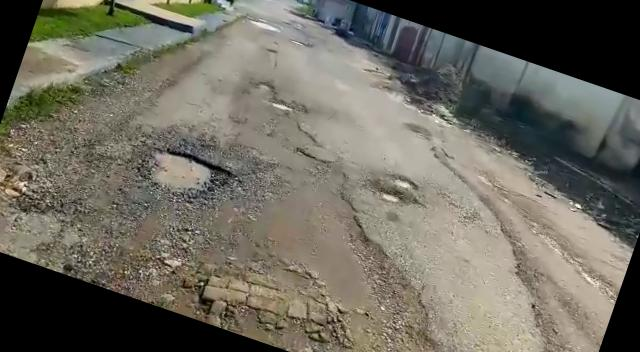pothole: (140, 143, 238, 212), (383, 171, 421, 194), (377, 189, 402, 205), (270, 100, 296, 115), (254, 80, 274, 93)
